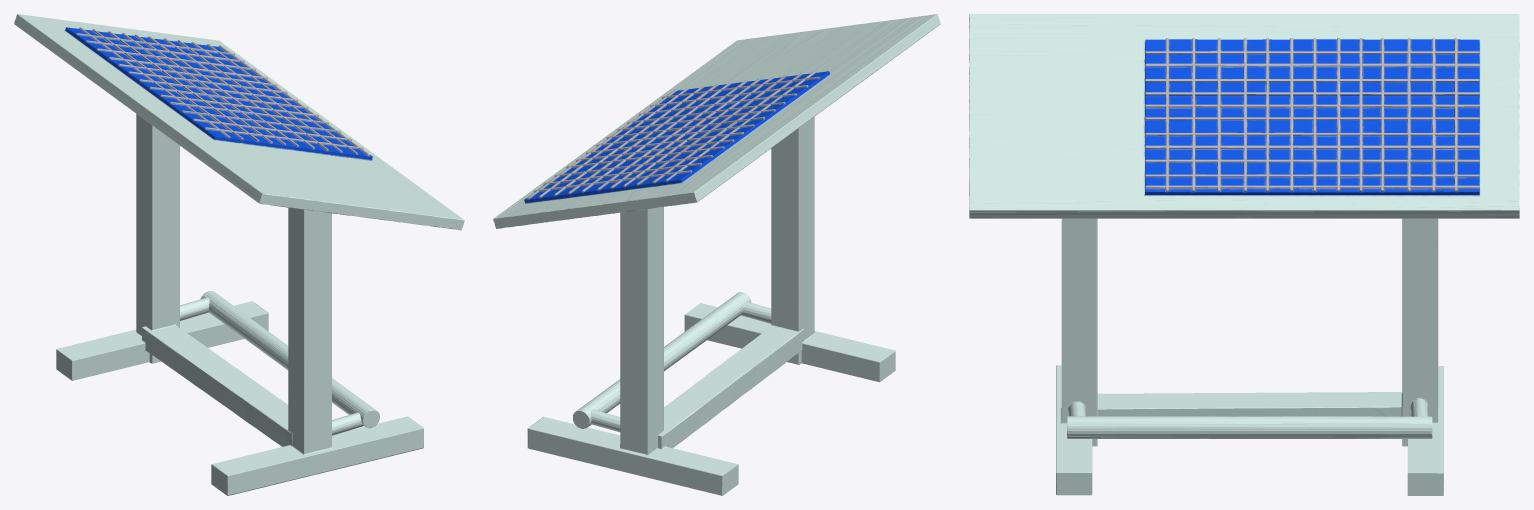
Rendered from zeichentisch_2.glb.
The picture shows the model from 3 angles, left to right: view 1: azimuth 30°, elevation 25°; view 2: azimuth 150°, elevation 25°; view 3: azimuth 270°, elevation 25°; orthographic projection. The views are drawn at different scales.
Visible parts, largest first — view 1: 283513_23_05_27_07_42_02_0; view 2: 283513_23_05_27_07_42_02_0; view 3: 283513_23_05_27_07_42_02_0.
Boxes of the visible parts, bbox=[...] form: 283513_23_05_27_07_42_02_0: bbox=[14, 14, 464, 495]; 283513_23_05_27_07_42_02_0: bbox=[493, 14, 940, 495]; 283513_23_05_27_07_42_02_0: bbox=[969, 14, 1519, 495].
Size of the model in its own units: 3.82 by 5.89 by 7.9.
Materials: 1 (1 with a texture image).
